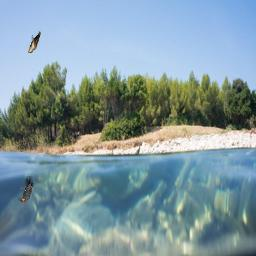Cuckoo: (28, 31, 41, 53)
Woodpecker: (18, 176, 34, 203)
